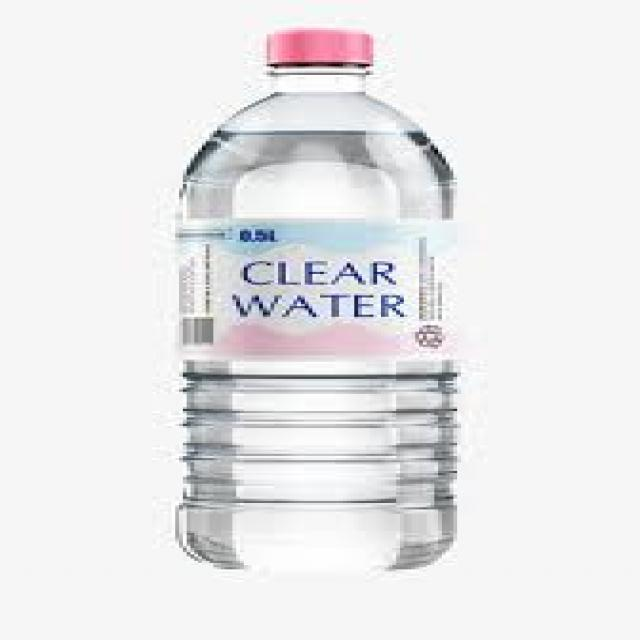Plastic: (178, 27, 460, 574)
